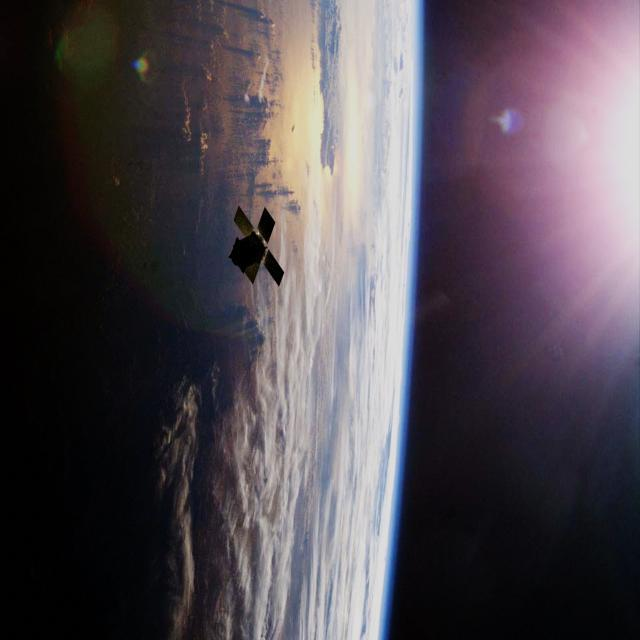satellite: (224, 199, 296, 295)
